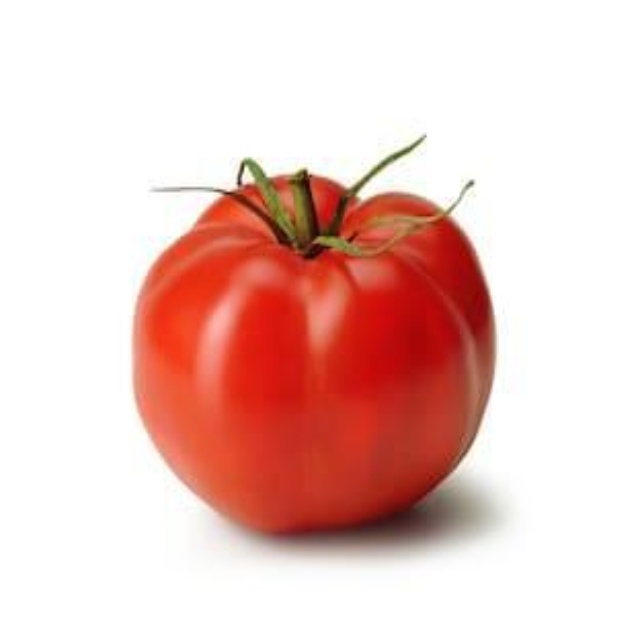tomato: (119, 148, 490, 541)
